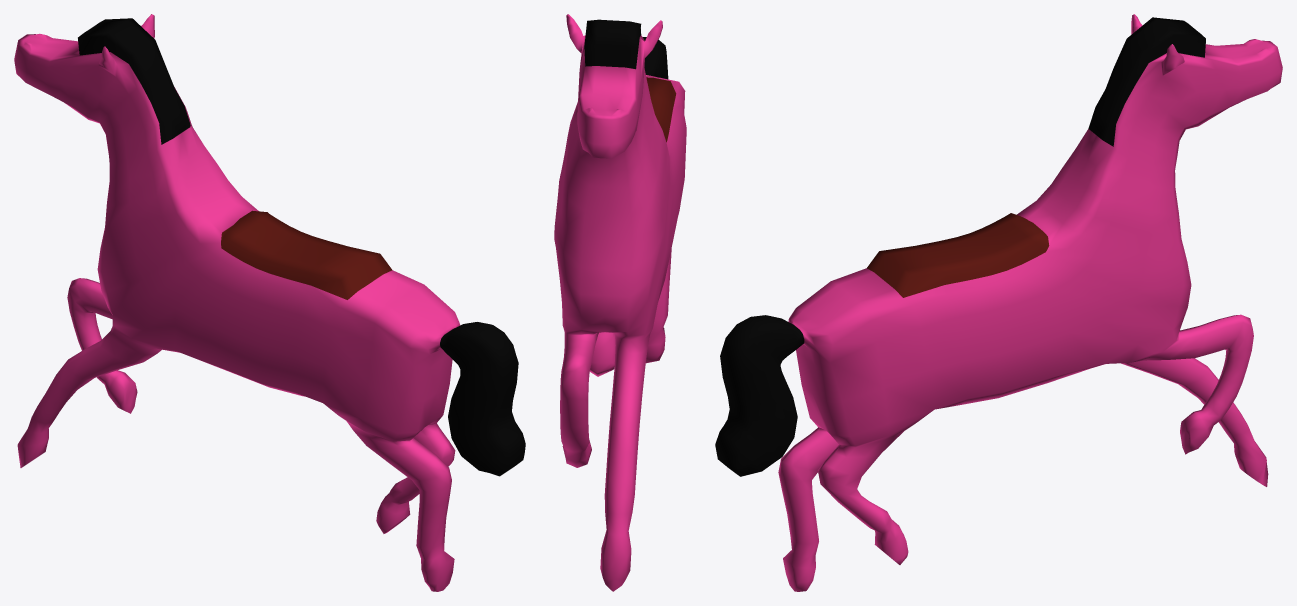
The model's file is SM_P_Horse.fbx.
3 renders of one model, left to right at view 1: azimuth 30°, elevation 25°; view 2: azimuth 150°, elevation 25°; view 3: azimuth 270°, elevation 25°, orthographic. The views are drawn at different scales.
Parts seen in each view (by area): view 1: SM_P_Horse; view 2: SM_P_Horse; view 3: SM_P_Horse.
Part boxes in pixels (left/top/right/bottom): SM_P_Horse: left=14, top=14, right=525, bottom=591; SM_P_Horse: left=554, top=14, right=686, bottom=591; SM_P_Horse: left=715, top=14, right=1282, bottom=591.
Size of the model in its own units: 17.29 by 30.21 by 31.57.
